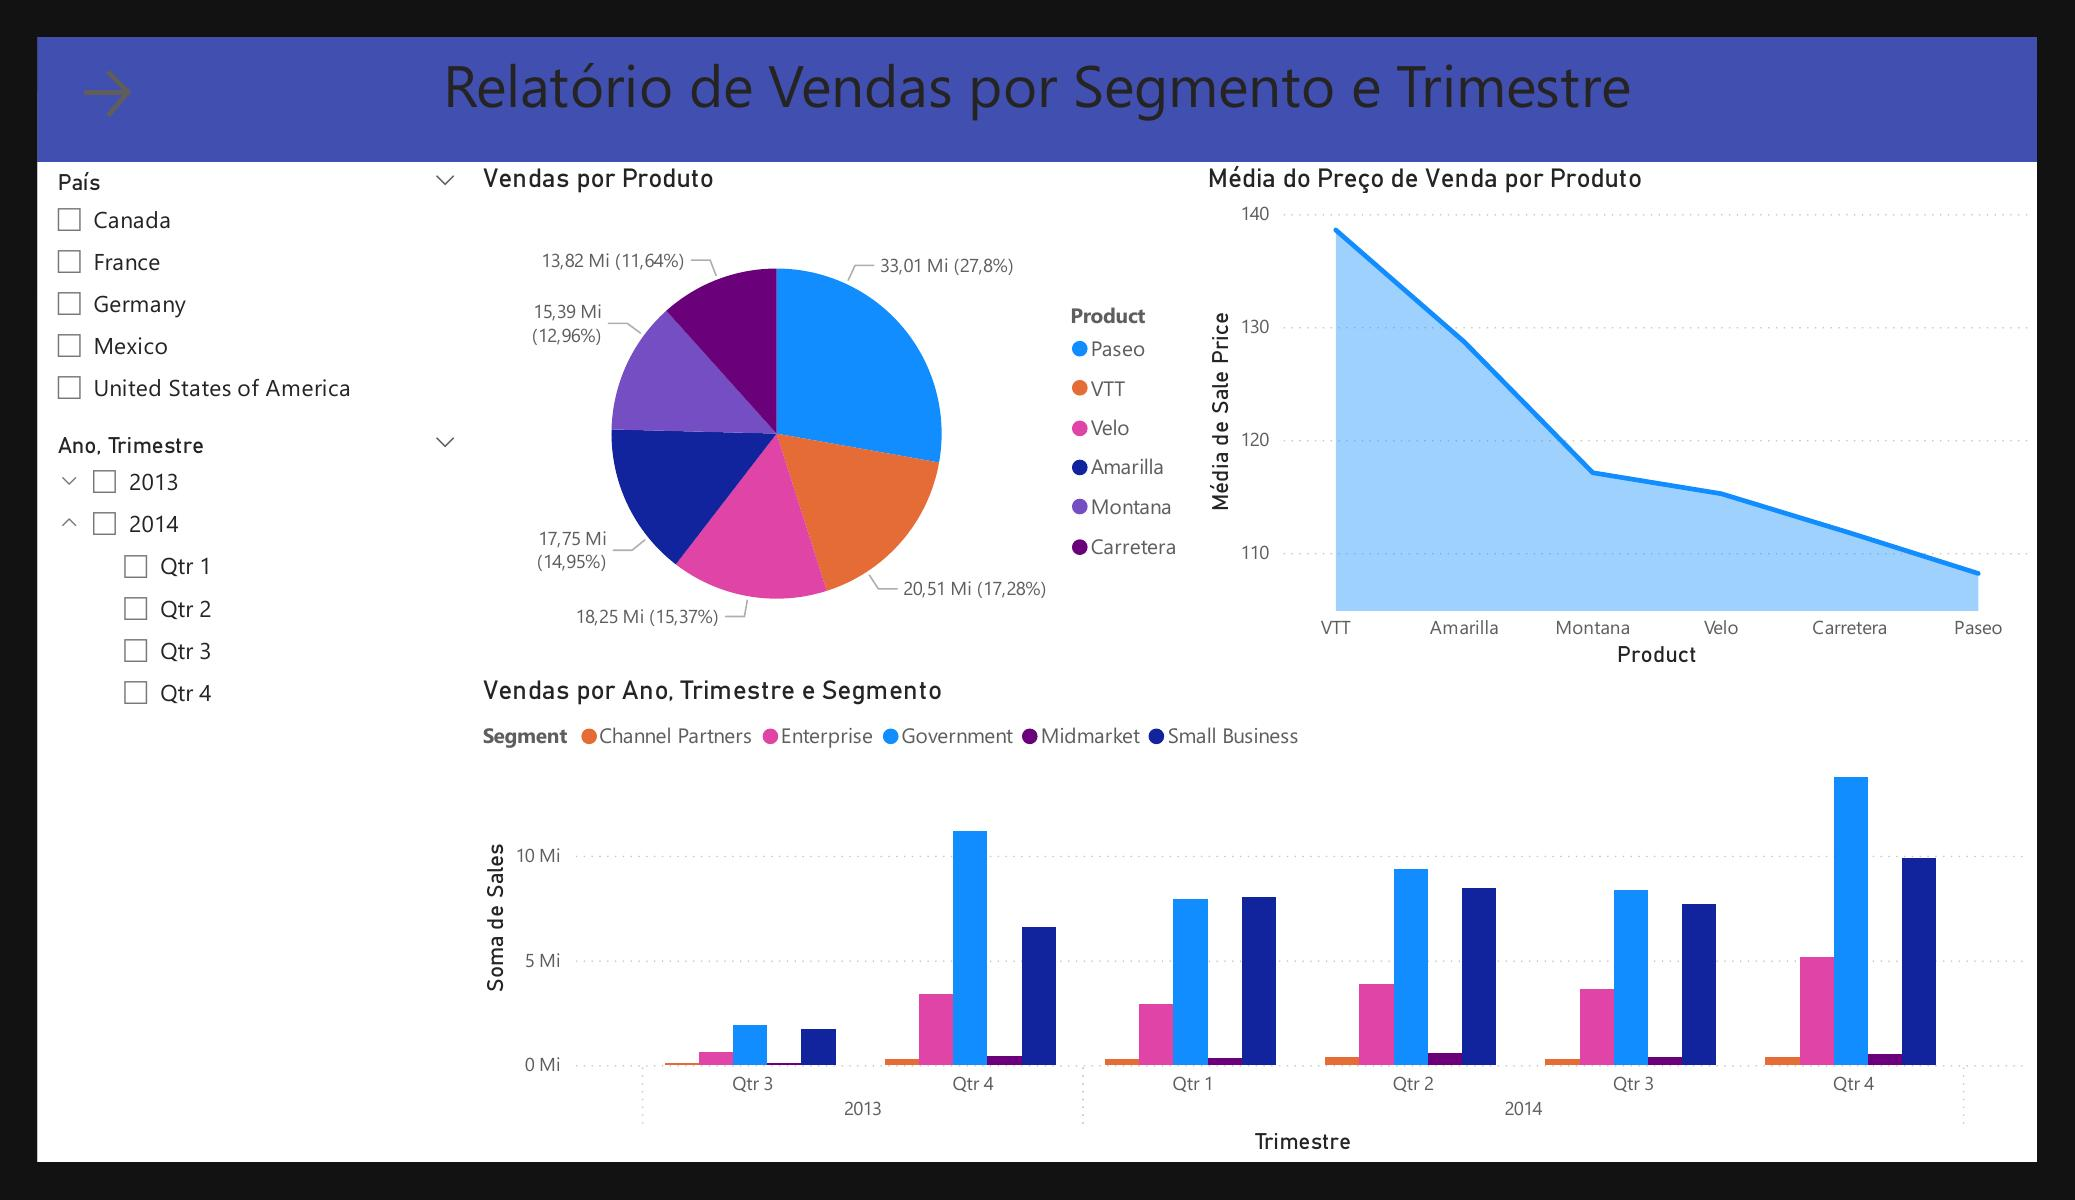

What the dashboard file says about the page in this screenshot:
{"tool":"powerbi","page":{"name":"Página 1","canvas":[1280,720],"ordinal":0},"visuals":[{"type":"pieChart","title":"Vendas por Produto","fields":{"Y":["Sum(financials. Sales)"],"Category":["financials.Product"]},"box":[280,80,464,328],"z":0,"group":"g1"},{"type":"areaChart","title":"Média do Preço de Venda por Produto","fields":{"Category":["financials.Product"],"Y":["Avg(financials.Sale Price)"]},"box":[744,80,536,328],"z":1000,"group":"g1"},{"type":"clusteredColumnChart","title":"Vendas por Ano, Trimestre e Segmento","fields":{"Y":["Sum(financials. Sales)"],"Category":["financials.Date.Variation.Hierarquia de datas.Ano","financials.Date.Variation.Hierarquia de datas.Trimestre"],"Series":["financials.Segment"]},"box":[280,408,1000,312],"z":2000,"group":"g1"},{"type":"slicer","fields":{"Values":["financials.Date.Variation.Hierarquia de datas.Ano","financials.Date.Variation.Hierarquia de datas.Trimestre"]},"box":[0,248,280,472],"z":3000,"group":"g1"},{"type":"textbox","box":[0,0,1280,80],"z":4000,"group":"g1"},{"type":"slicer","fields":{"Values":["financials.Country"]},"box":[0,80,280,168],"z":5000,"group":"g1"},{"type":"group","id":"g1","title":"Grupo 1","box":[0,0,1280,720],"z":5001},{"type":"actionButton","box":[24,16,96,40],"z":5002}]}

Visuals, with their boxes on the page's 1280x720 design canvas (x1, y1, x2, y2). These are canvas units, not pixel positions in the 2075x1200 screenshot, which may show the page scaled, cropped or inside an application window:
"Vendas por Produto" pieChart: <region>280, 80, 744, 408</region>
"Média do Preço de Venda por Produto" areaChart: <region>744, 80, 1280, 408</region>
"Vendas por Ano, Trimestre e Segmento" clusteredColumnChart: <region>280, 408, 1280, 720</region>
slicer - financials.Date.Variation.Hierarquia de datas.Ano x financials.Date.Variation.Hierarquia de datas.Trimestre: <region>0, 248, 280, 720</region>
textbox: <region>0, 0, 1280, 80</region>
slicer - financials.Country: <region>0, 80, 280, 248</region>
"Grupo 1" group: <region>0, 0, 1280, 720</region>
actionButton: <region>24, 16, 120, 56</region>
